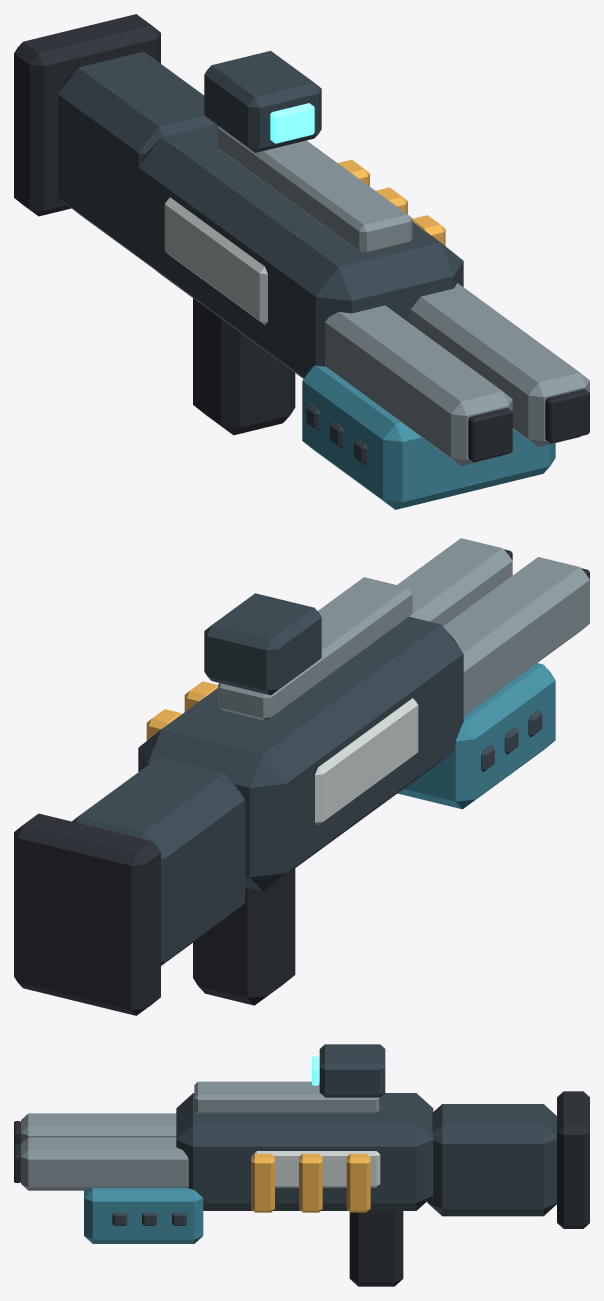
The model's file is breach_shotgun.glb.
The picture shows the model from 3 angles, top to bottom: view 1: azimuth 30°, elevation 25°; view 2: azimuth 150°, elevation 25°; view 3: azimuth 270°, elevation 25°; orthographic projection. The views are drawn at different scales.
Parts seen in each view (by area): view 1: Receiver, Barrel (×2), Stock, Pump, ButtPad, Rail, Grip, SightBase, SidePanel, MuzzleBore (×2), SightLens; view 2: Receiver, ButtPad, Barrel (×2), Stock, Pump, Grip, SightBase, Rail, SidePanel; view 3: Receiver, Stock, Barrel (×2), Pump, Rail, ButtPad, Shell (×3), Grip, SightBase, SidePanel.
Boxes of the visible parts, x1,y1,x2,y2 form: Receiver: (138,124,463,378); Barrel (×2): (325,283,589,465); Stock: (58,51,214,266); Pump: (302,365,555,509); ButtPad: (14,14,160,216); Rail: (218,126,412,254); Grip: (193,298,295,435); SightBase: (204,50,321,152); SidePanel: (164,197,267,324); MuzzleBore (×2): (468,389,589,462); SightLens: (270,103,314,143); Receiver: (138,616,463,891); ButtPad: (14,813,160,1015); Barrel (×2): (397,538,589,715); Stock: (72,757,245,965); Pump: (397,663,555,809); Grip: (193,868,295,1005); SightBase: (204,593,321,695); Rail: (218,577,412,720); SidePanel: (315,698,418,825); Receiver: (176,1093,433,1210); Stock: (427,1104,556,1216); Barrel (×2): (21,1113,188,1190); Pump: (84,1187,203,1243); Rail: (194,1081,379,1113); ButtPad: (557,1091,589,1228); Shell (×3): (251,1153,370,1212); Grip: (349,1211,403,1286); SightBase: (319,1044,385,1097); SidePanel: (253,1151,380,1187).
Bounding box in the file's own units: 0.238 × 0.4175 × 0.9645.
